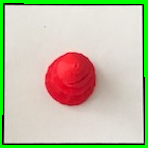Red Bishop: (42, 49, 97, 112)
